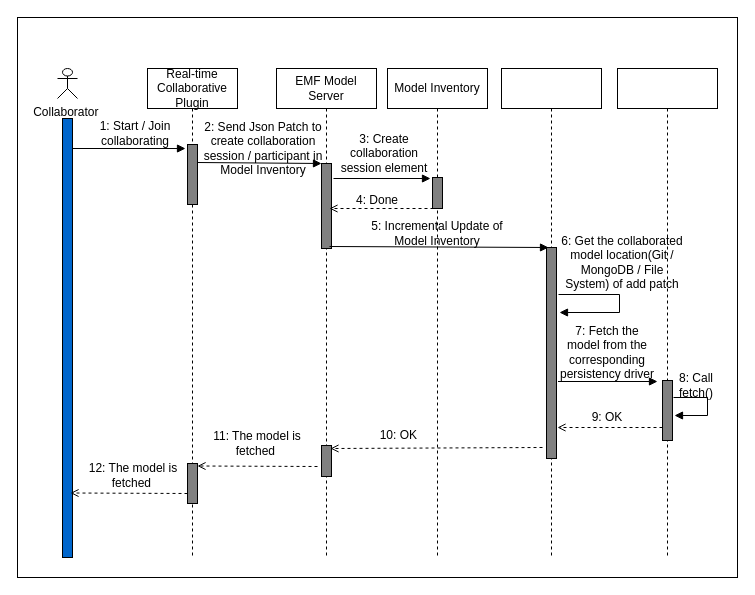
Image size: 755x595. Some labels were removed from this diagram. The shapes that lost their labels are listed below. From the top down, each one's box as (x1, y1, x2, y2) in pixels, then its label:
(500, 68, 602, 558): Model Inventory Controller
(616, 68, 718, 558): Persistency Controller
